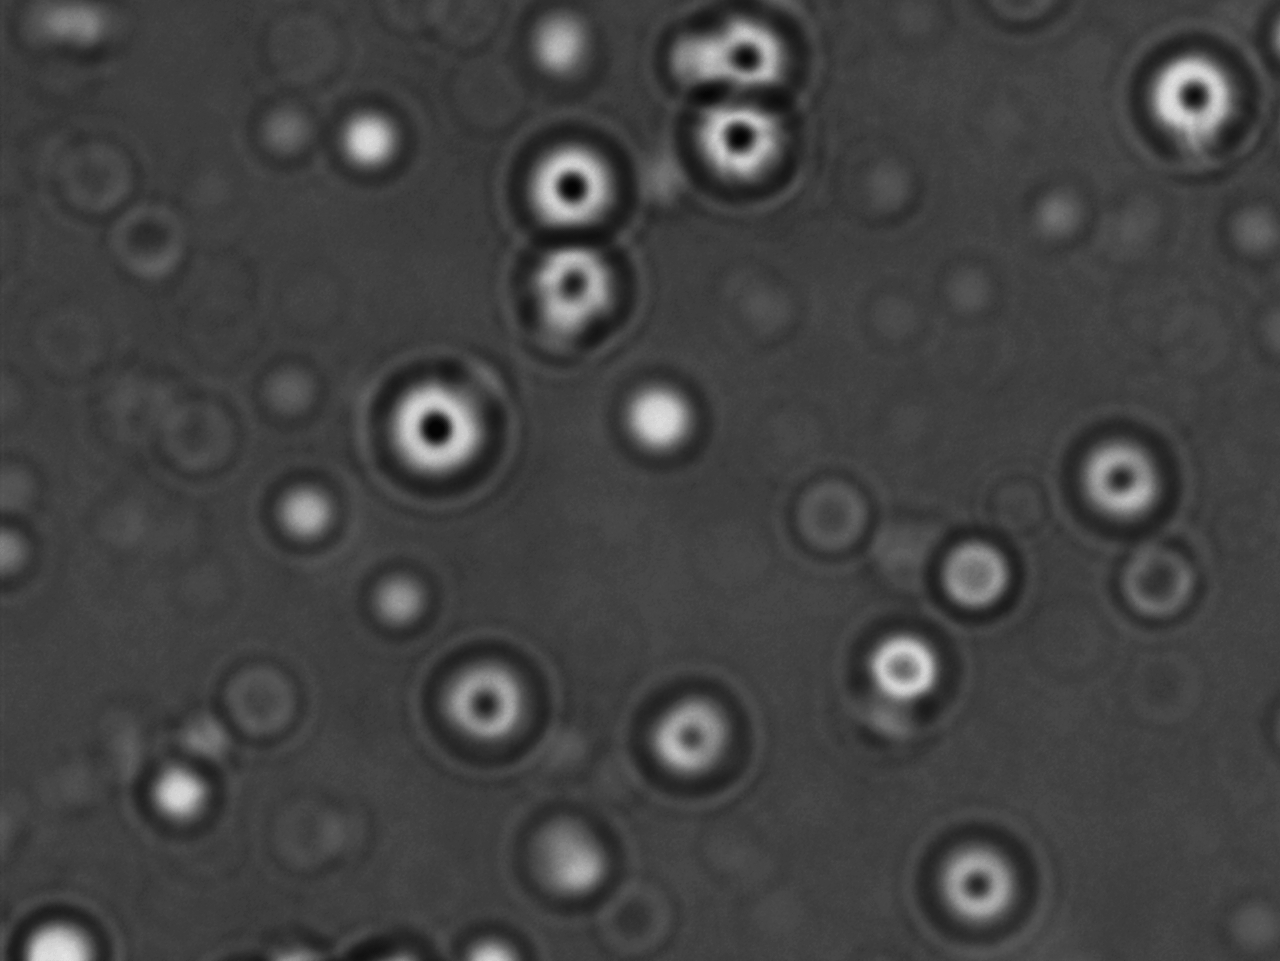depth:24: (359, 356, 516, 503), (1122, 31, 1255, 165), (679, 82, 808, 210), (507, 126, 632, 248)
